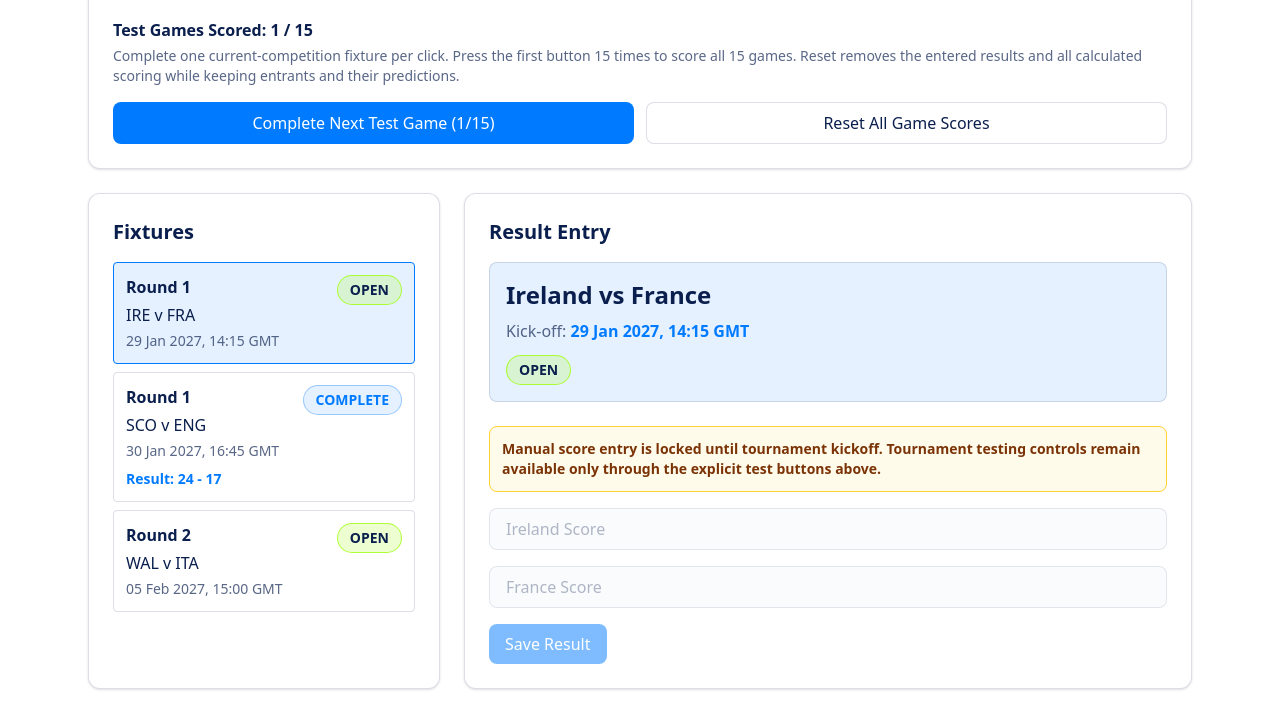
Scenario: AdminPage › selects another open fixture and clears result fields when no result exists
The width and height of the screenshot is (1280, 713).
(page scrolled)
Expected: the heading "Ireland vs France" is shown, [506, 278, 711, 311]
Step 1. Click the button "Round 2 WAL v ITA 05 Feb 2027, 15:00 GMT OPEN" → (152, 535), box [113, 510, 415, 612]
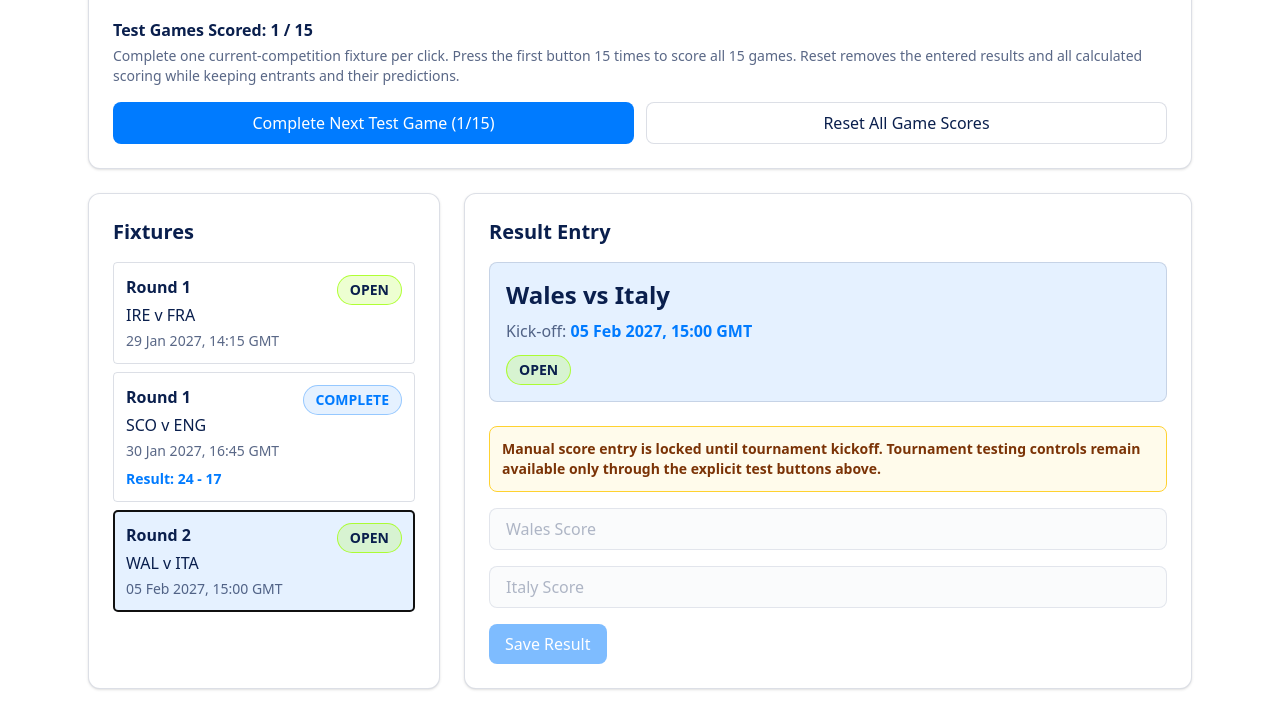
Expected: the number field with placeholder "Wales Score" is not empty, [489, 508, 1167, 550]
Now the heading "Wales vs Italy" is shown, box [506, 278, 670, 311]
